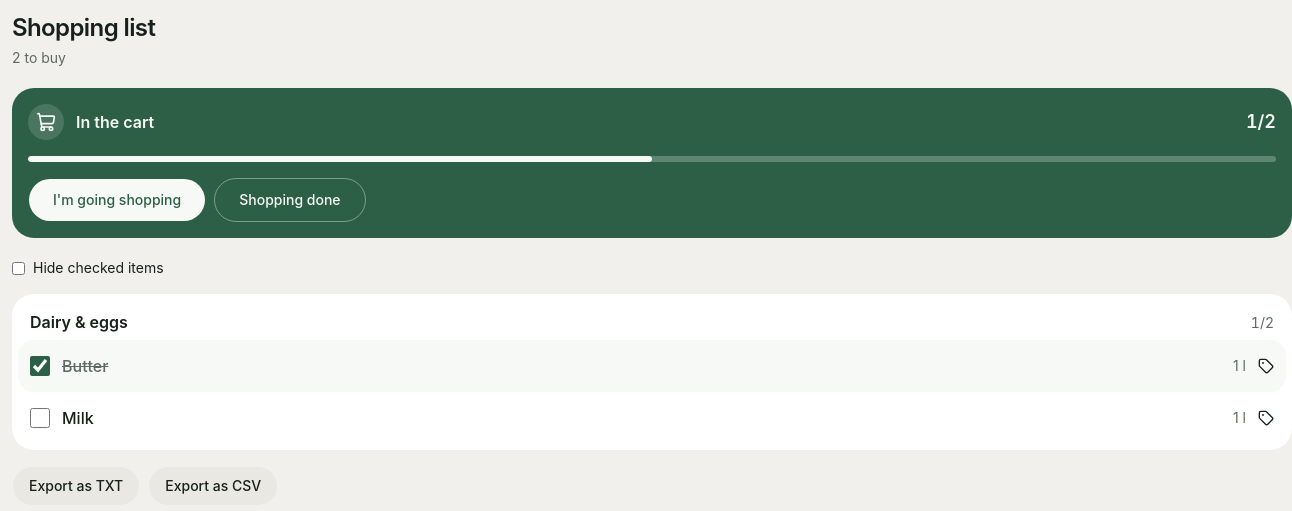
Test: ShoppingList hide-checked toggle › hides checked rows and keeps category progress
This screenshot has width=1292, height=511.
Check: the text "Butter" is shown, box [62,356,108,376]
Click the checkbox labelled "Hide checked items" at (18, 268), box [12,262,25,274]
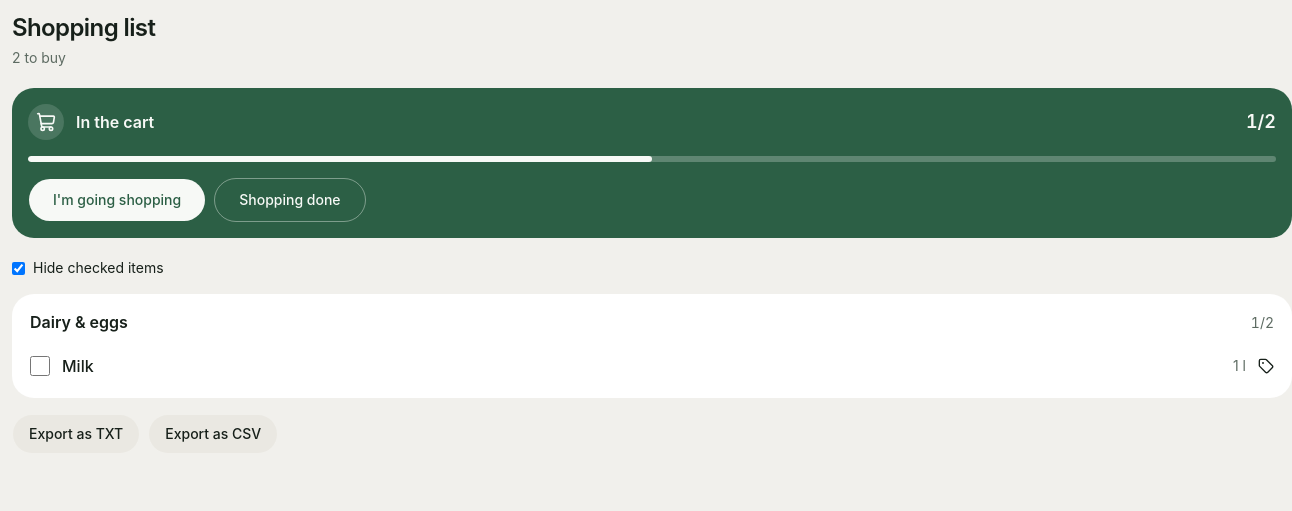
Check: the text "Milk" is shown, box [62,356,94,376]
Check: the button "Butter" is gone
